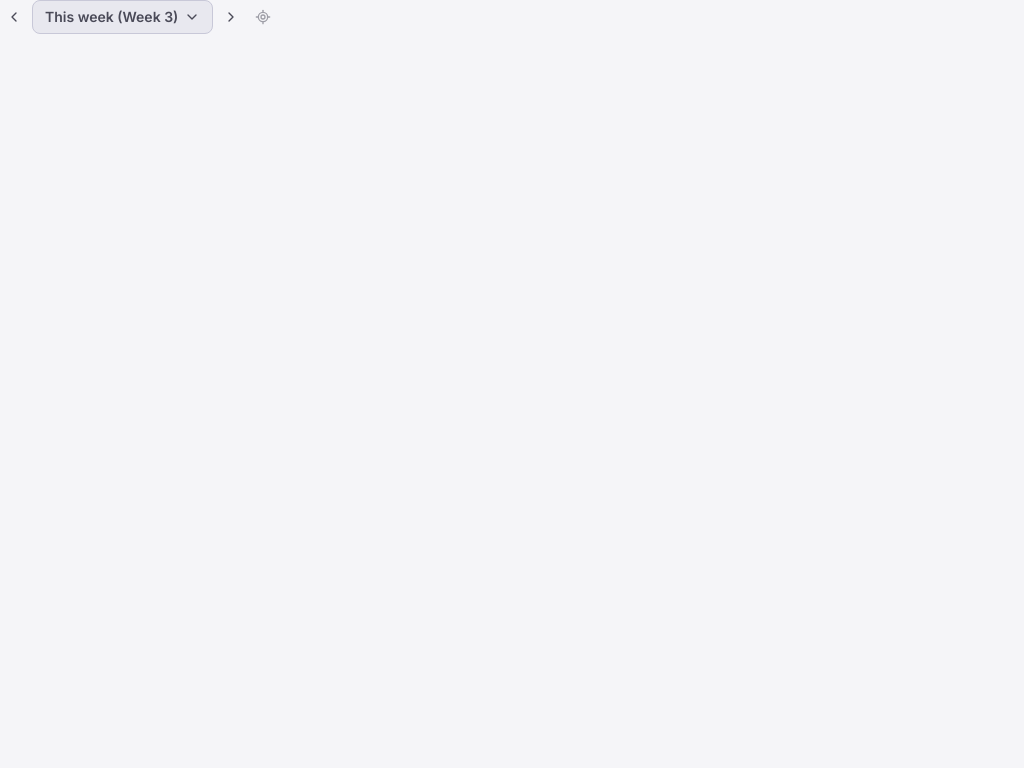
Test: WeekScopeControl › Revert week — one confirmation per path (director-ruled) › empty week — the lightweight ConfirmModal is the only confirmation › opens after the pre-check settles, and the itemized summary modal never appears
The image size is (1024, 768).
Press Enter in the button "This week (Week 3)", box [32,0,213,34]
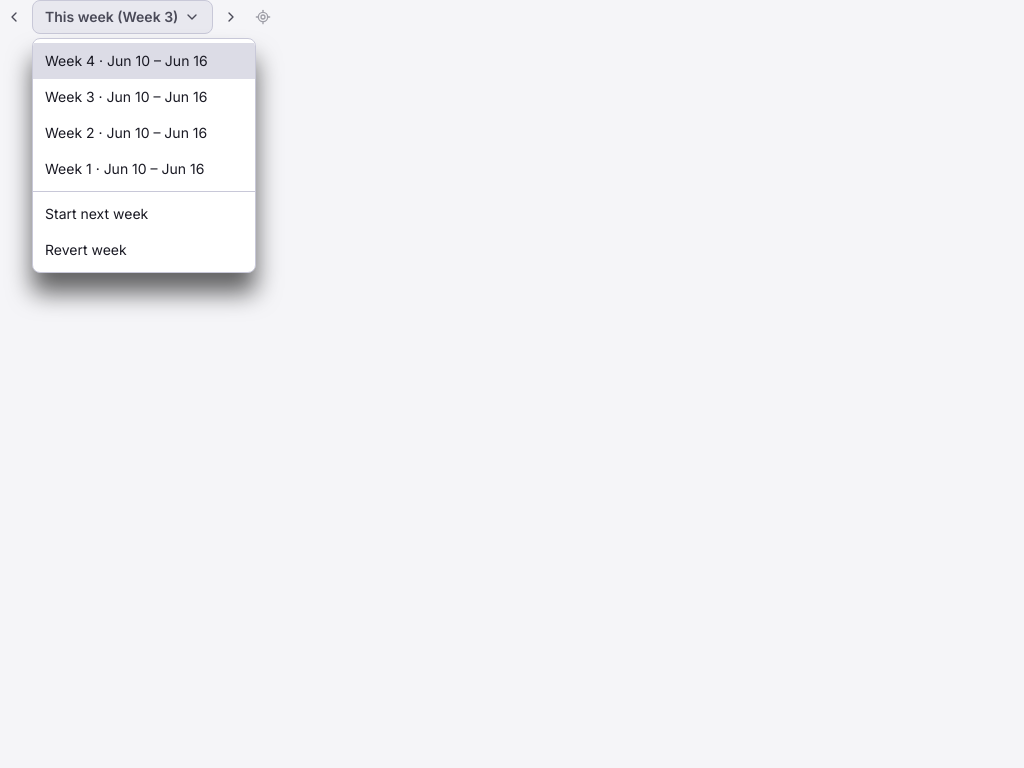
Click the menu item "Revert week".
click(86, 250)  # box [45,241,127,258]
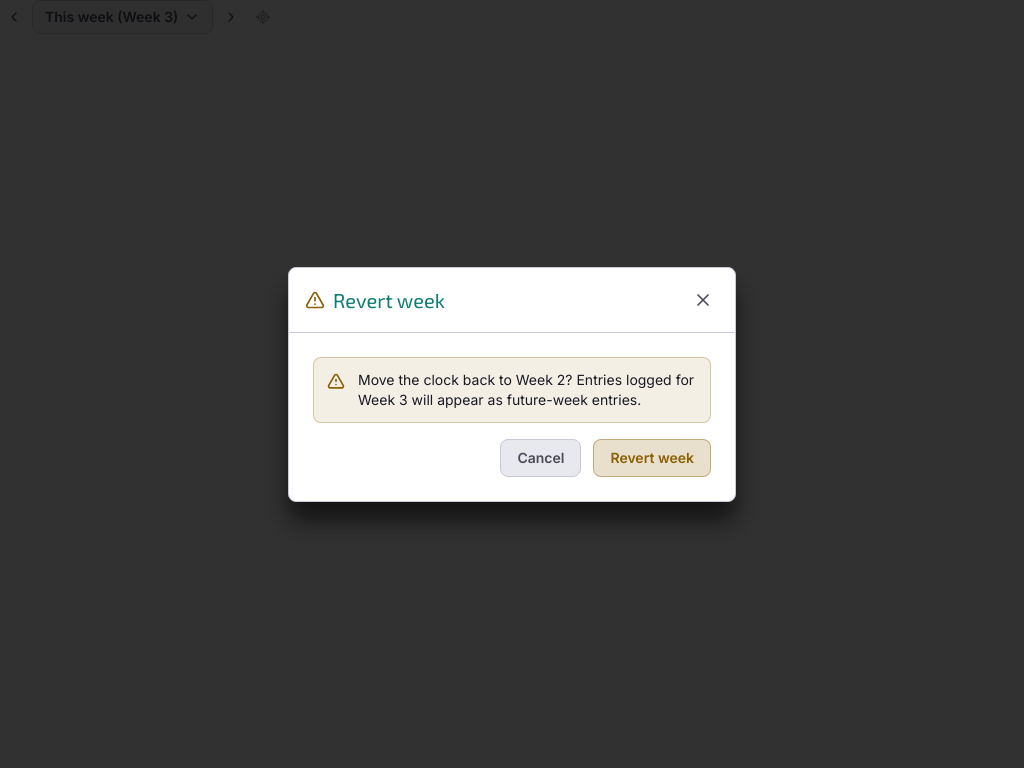
Expected: the text "Move the clock back to Week 2" is shown, [358,370,694,408]
